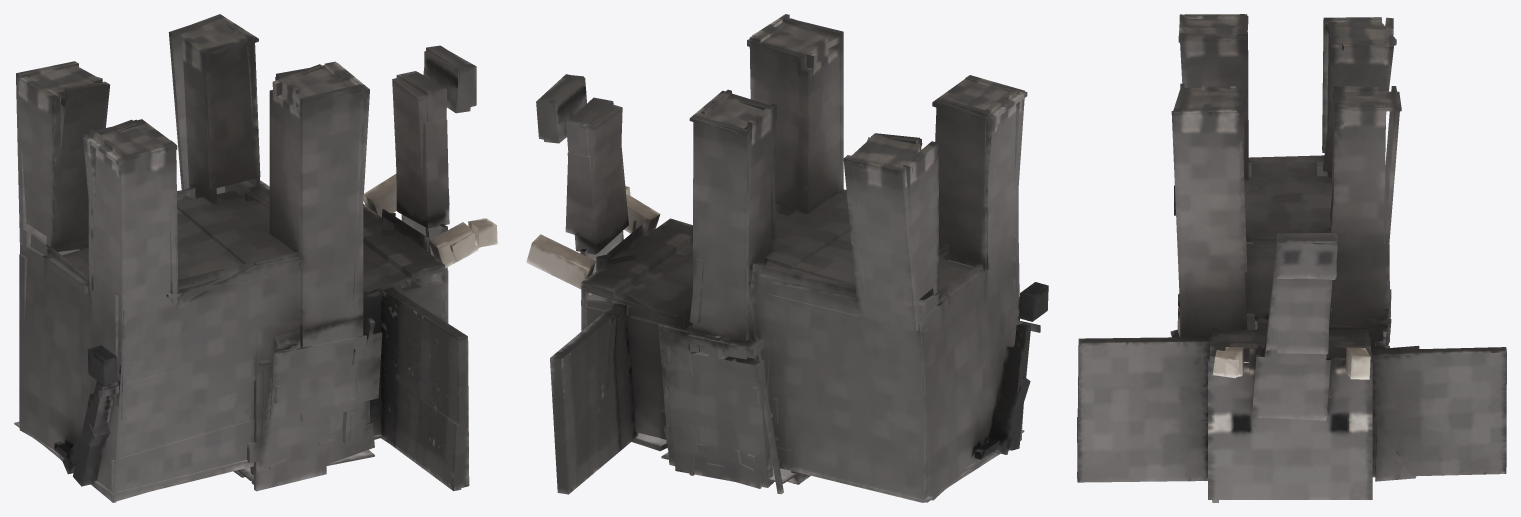
3 views of the same model, side by side, from view 1: azimuth 30°, elevation 25°; view 2: azimuth 150°, elevation 25°; view 3: azimuth 270°, elevation 25° (orthographic). The views are drawn at different scales.
Visible parts, largest first — view 1: cuboid_12, cuboid_100, cuboid_89, cuboid_16, cuboid_03, cuboid_24, cuboid_66, cuboid_76, cuboid_33, cuboid_01, cuboid_17, cuboid_38 (+44 smaller); view 2: cuboid_124, cuboid_08, cuboid_05, cuboid_21, cuboid_89, cuboid_29, cuboid_23, cuboid_106, cuboid_38, cuboid_18, cuboid_17, cuboid_02 (+39 smaller); view 3: cuboid_03, cuboid_07, cuboid_05, cuboid_06, cuboid_15, cuboid_35, cuboid_43, cuboid_54, cuboid_32, cuboid_77, cuboid_27, cuboid_20 (+27 smaller).
Part boxes in pixels (x1,y1,x2,y2): cuboid_12: [300, 84, 363, 422]; cuboid_100: [128, 263, 285, 429]; cuboid_89: [19, 243, 84, 449]; cuboid_16: [116, 140, 178, 365]; cuboid_03: [377, 284, 469, 488]; cuboid_24: [254, 252, 326, 491]; cuboid_66: [269, 332, 382, 419]; cuboid_76: [110, 400, 370, 502]; cuboid_33: [203, 41, 260, 189]; cuboid_01: [114, 258, 268, 490]; cuboid_17: [20, 76, 61, 241]; cuboid_38: [88, 129, 126, 420]; cuboid_124: [768, 294, 929, 502]; cuboid_08: [692, 117, 748, 359]; cuboid_05: [550, 301, 638, 494]; cuboid_21: [666, 348, 773, 487]; cuboid_89: [913, 263, 989, 500]; cuboid_29: [843, 155, 919, 331]; cuboid_23: [938, 99, 998, 253]; cuboid_106: [798, 46, 839, 213]; cuboid_38: [981, 88, 1018, 312]; cuboid_18: [757, 41, 816, 215]; cuboid_17: [903, 141, 938, 306]; cuboid_02: [921, 243, 1021, 502]; cuboid_03: [1077, 337, 1218, 482]; cuboid_07: [1208, 360, 1372, 499]; cuboid_05: [1371, 347, 1506, 477]; cuboid_06: [1171, 109, 1242, 337]; cuboid_15: [1331, 102, 1363, 327]; cuboid_35: [1251, 354, 1330, 420]; cuboid_43: [1360, 103, 1386, 326]; cuboid_54: [1277, 278, 1329, 354]; cuboid_32: [1189, 36, 1248, 180]; cuboid_77: [1204, 106, 1247, 330]; cuboid_27: [1245, 243, 1389, 309]; cuboid_20: [1323, 39, 1393, 171].
Size of the model in its own units: 0.9938 by 0.85 by 0.923.
Materials: 1 (1 with a texture image).
